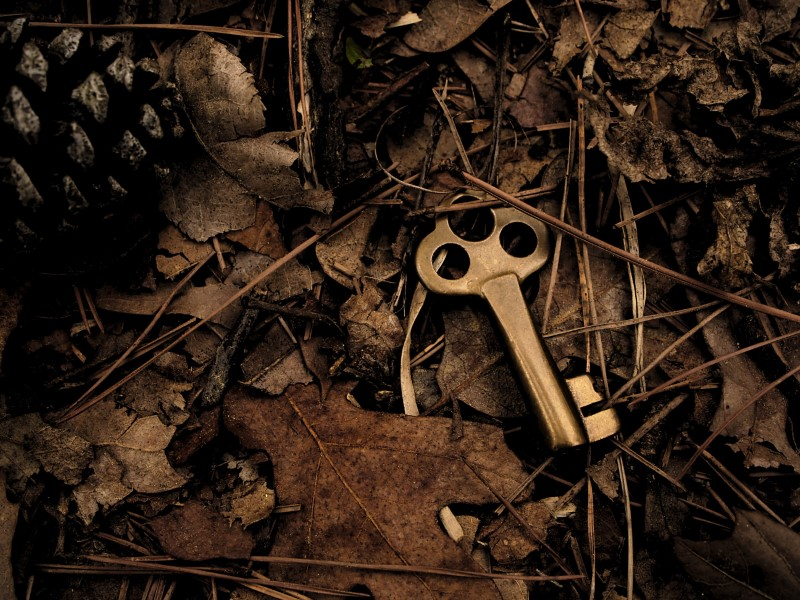key: (409, 185, 624, 464)
